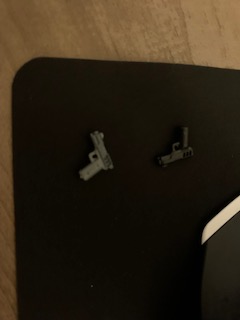pistol: (71, 126, 115, 185), (154, 116, 198, 167)
